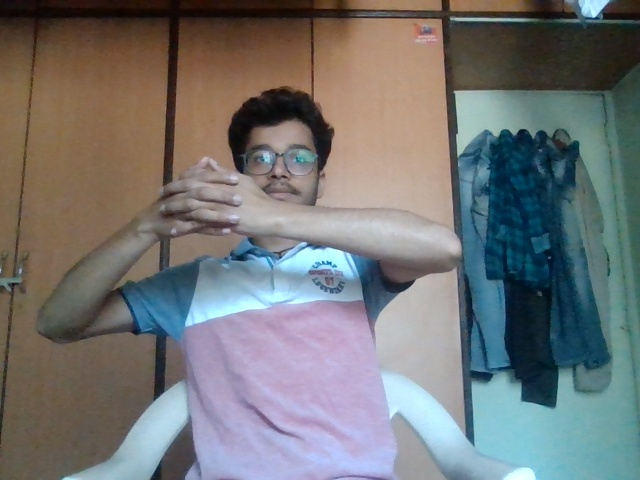good: (144, 146, 280, 256)
